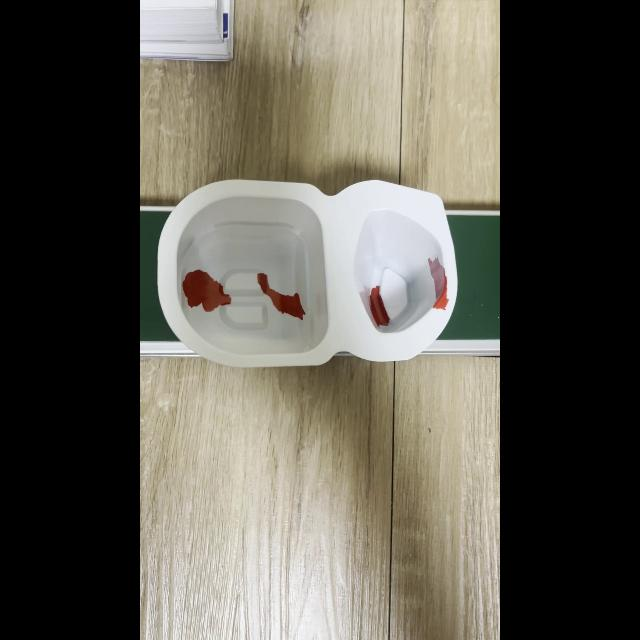dirty: (160, 178, 454, 364)
